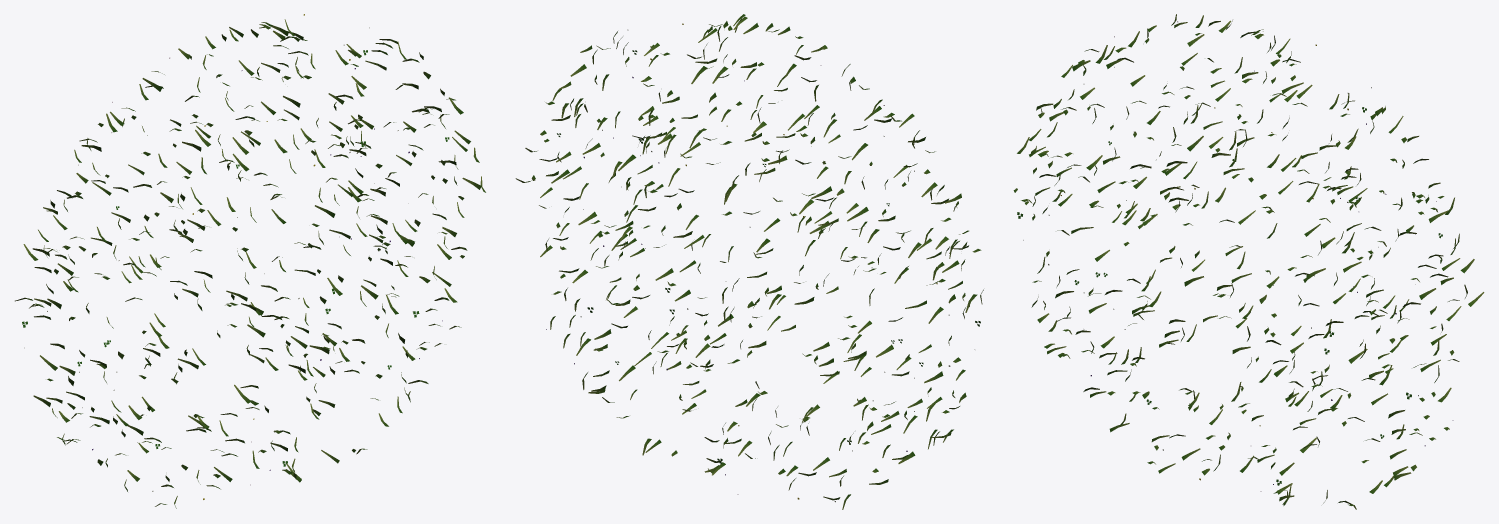
File: Grass_Tile_WildMeadow.glb
The picture shows the model from 3 angles, left to right: view 1: azimuth 30°, elevation 25°; view 2: azimuth 150°, elevation 25°; view 3: azimuth 330°, elevation 25°; orthographic projection.
Parts seen in each view (by area): view 1: Grass_Tile_WildMeadow; view 2: Grass_Tile_WildMeadow; view 3: Grass_Tile_WildMeadow.
Boxes of the visible parts, bbox=[...] form: Grass_Tile_WildMeadow: bbox=[15, 14, 485, 508]; Grass_Tile_WildMeadow: bbox=[515, 14, 983, 509]; Grass_Tile_WildMeadow: bbox=[1013, 14, 1484, 509].
Size of the model in its own units: 1.92 by 1.84 by 0.1099.
